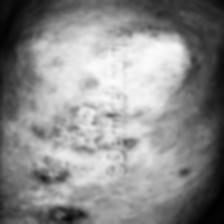Non-Cancerous Skin Condition: (125, 22, 185, 118), (38, 88, 104, 148), (30, 154, 82, 184), (36, 203, 87, 224)
